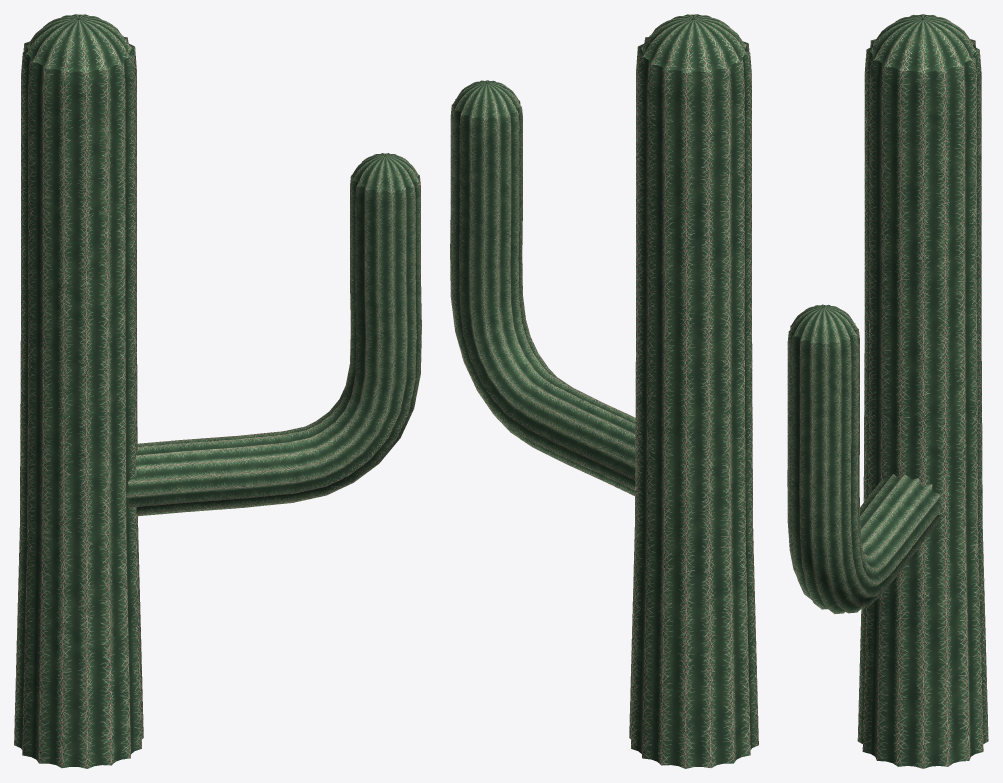
Rendered from cactus_saguaro_02.glb.
3 views of the same model, side by side, from view 1: azimuth 30°, elevation 25°; view 2: azimuth 150°, elevation 25°; view 3: azimuth 270°, elevation 25° (orthographic).
Parts seen in each view (by area): view 1: cactus_saguaro_02; view 2: cactus_saguaro_02; view 3: cactus_saguaro_02.
Boxes of the visible parts, x1=… form: cactus_saguaro_02: x1=14, y1=14, x2=421, y2=768; cactus_saguaro_02: x1=450, y1=14, x2=758, y2=768; cactus_saguaro_02: x1=787, y1=14, x2=988, y2=768.
Bounding box in the file's own units: 1.5 × 3 × 0.7576.
Materials: 1 (1 with a texture image).
